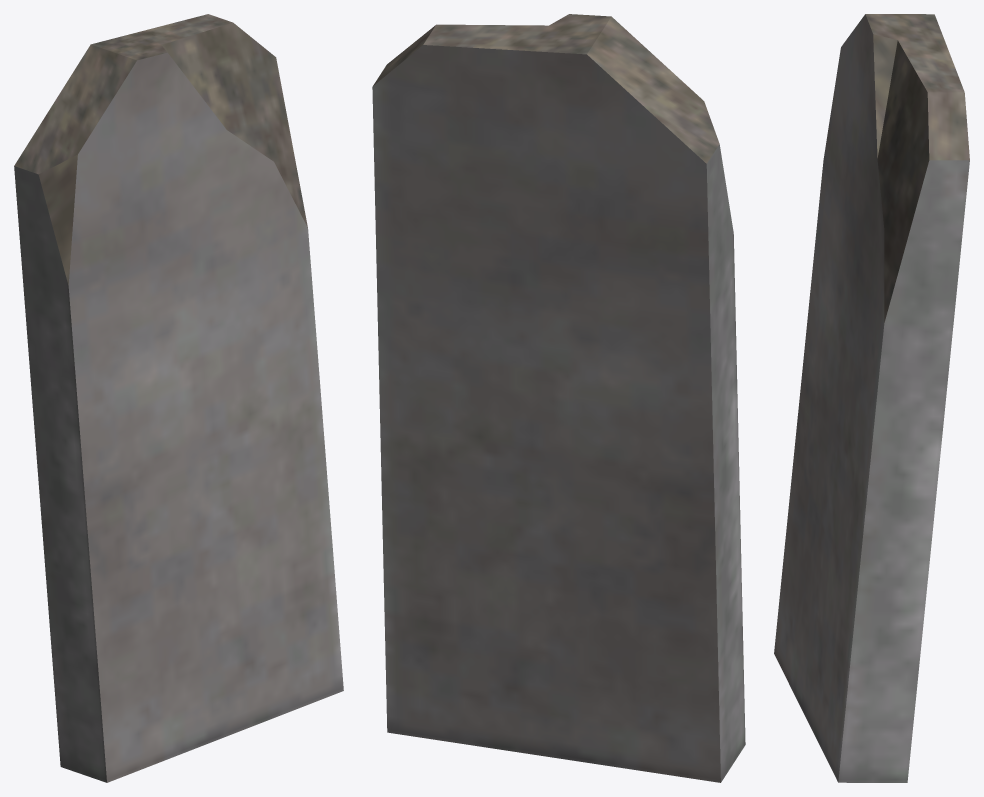
File: Common_OBJ_BrickDecoTop_03_Broken_01.fbx
3 renders of one model, left to right at view 1: azimuth 30°, elevation 25°; view 2: azimuth 150°, elevation 25°; view 3: azimuth 270°, elevation 25°, orthographic. The views are drawn at different scales.
Visible parts, largest first — view 1: Common_OBJ_BrickDecoTop_03_Broken_01; view 2: Common_OBJ_BrickDecoTop_03_Broken_01; view 3: Common_OBJ_BrickDecoTop_03_Broken_01.
Part boxes in pixels (box(x1,y1,x2,y2)): Common_OBJ_BrickDecoTop_03_Broken_01: box(14, 14, 343, 782); Common_OBJ_BrickDecoTop_03_Broken_01: box(372, 14, 745, 782); Common_OBJ_BrickDecoTop_03_Broken_01: box(774, 14, 969, 782).
Size of the model in its own units: 46.85 by 102 by 26.48.
Materials: 2 (2 with a texture image).
